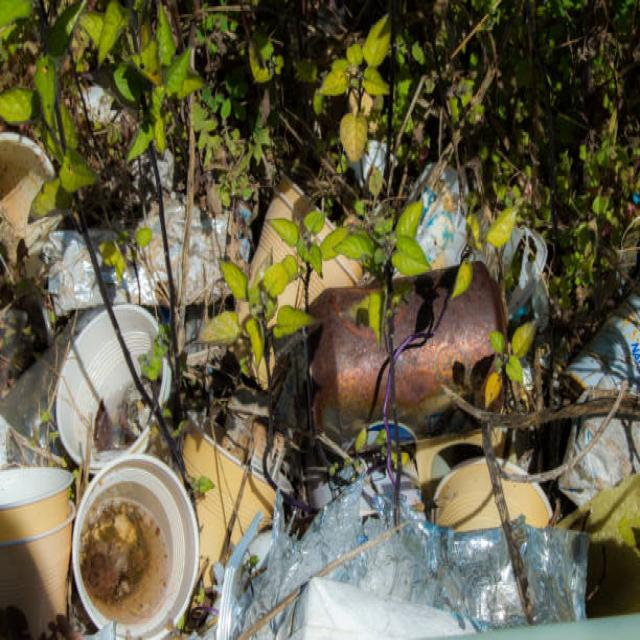metal: (308, 259, 492, 453)
plastic: (9, 344, 600, 598)
